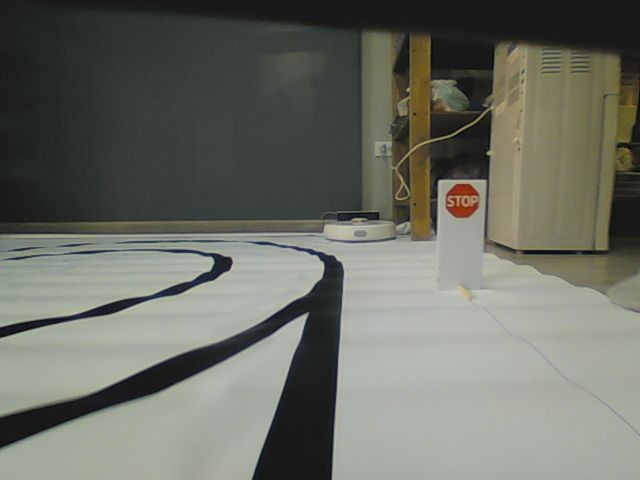Stop: (444, 182, 480, 220)
